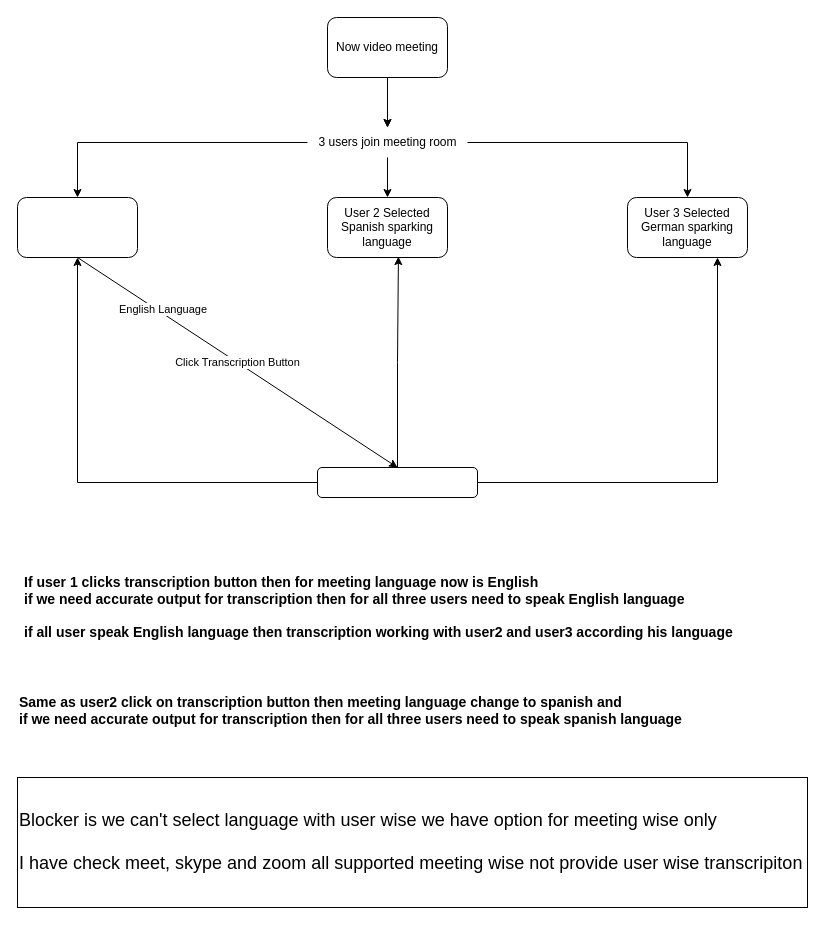
Some shapes in this 825 by 925 pixel diagram are drawn without their labels. Each missing label, with the centre of its shape:
Meeting Language: (x=397, y=482)
User 1 Selected English sparking language: (x=77, y=227)
